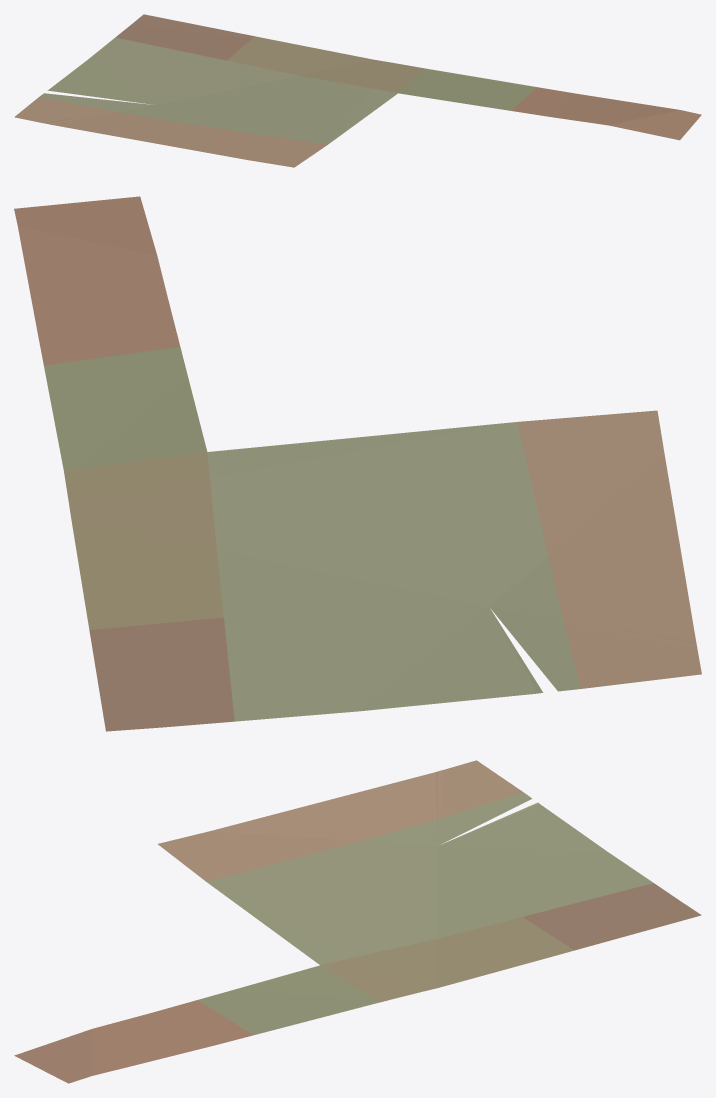
File: farm_11_11_soil.glb
3 views of the same model, one above another, from view 1: azimuth 30°, elevation 25°; view 2: azimuth 150°, elevation 25°; view 3: azimuth 270°, elevation 25° (orthographic). The views are drawn at different scales.
Parts seen in each view (by area): view 1: geometry_0; view 2: geometry_0; view 3: geometry_0.
Boxes of the visible parts, <box> form: geometry_0: <box>14,14,701,167</box>; geometry_0: <box>14,196,701,731</box>; geometry_0: <box>14,760,701,1083</box>.
Size of the model in its own units: 174 by 7.58 by 159.
